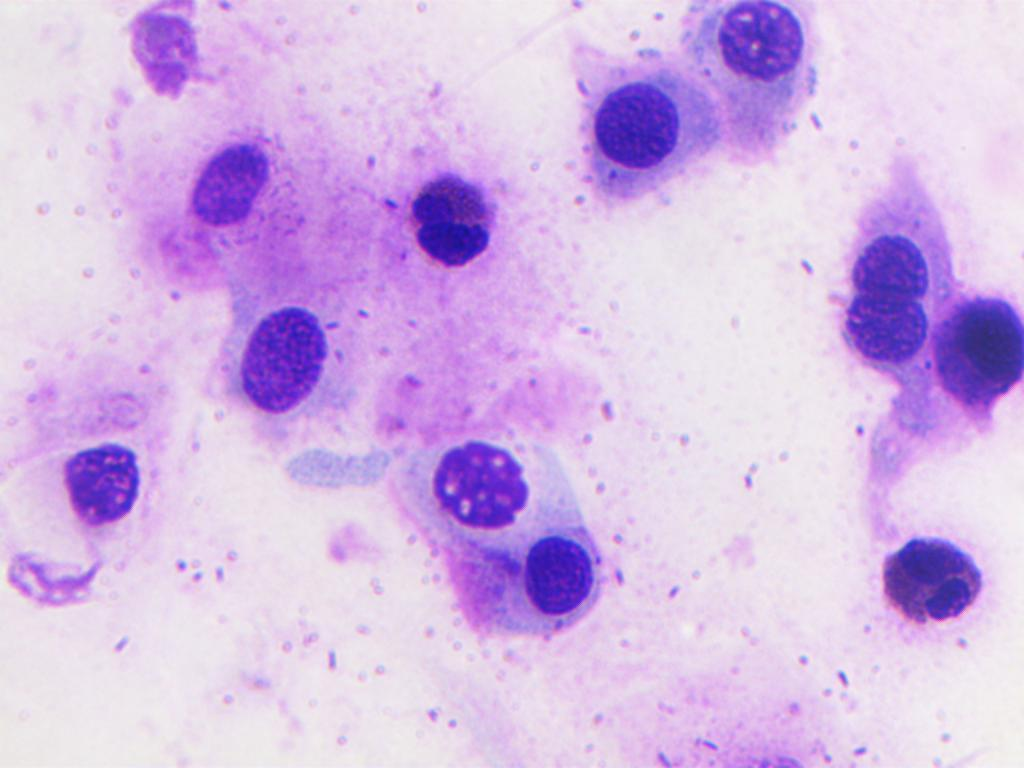eosinophil: (365, 147, 540, 309), (929, 212, 1024, 471), (847, 538, 1010, 648)
epithelial: (208, 260, 390, 445), (191, 119, 351, 264), (562, 42, 705, 200), (427, 526, 608, 642), (420, 437, 559, 534), (817, 295, 932, 394), (829, 190, 932, 297), (58, 437, 160, 529)
